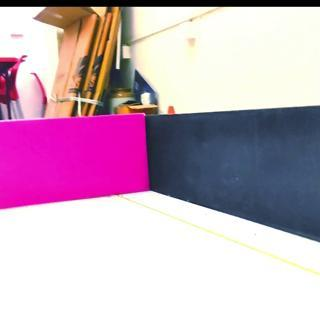xparking: (1, 122, 146, 205)
